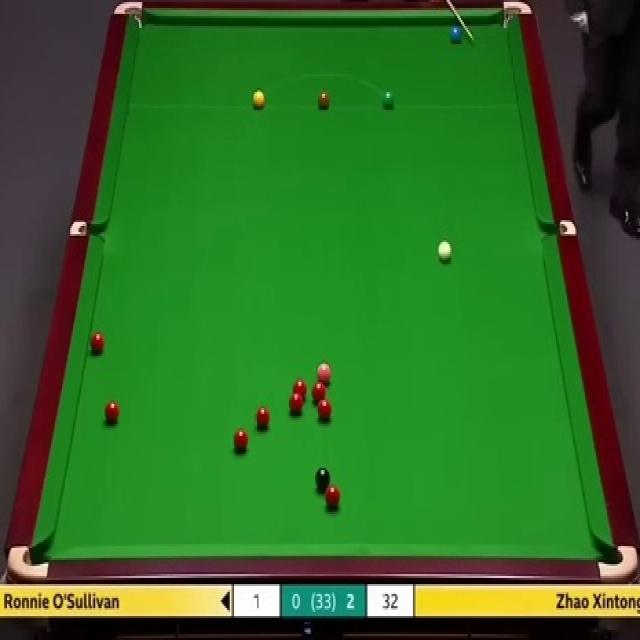black-ball: (315, 466, 329, 489)
blue-ball: (448, 25, 462, 44)
brown-ball: (318, 90, 331, 110)
green-ball: (381, 90, 395, 111)
pink-ball: (317, 362, 331, 388)
red-ball: (89, 332, 106, 356), (233, 428, 249, 453), (311, 379, 327, 404), (318, 397, 332, 425), (324, 484, 340, 508), (254, 405, 270, 429), (293, 378, 307, 404), (105, 401, 118, 424), (290, 393, 302, 413)
white-ball: (436, 240, 454, 262)
yellow-ball: (251, 89, 266, 110)
